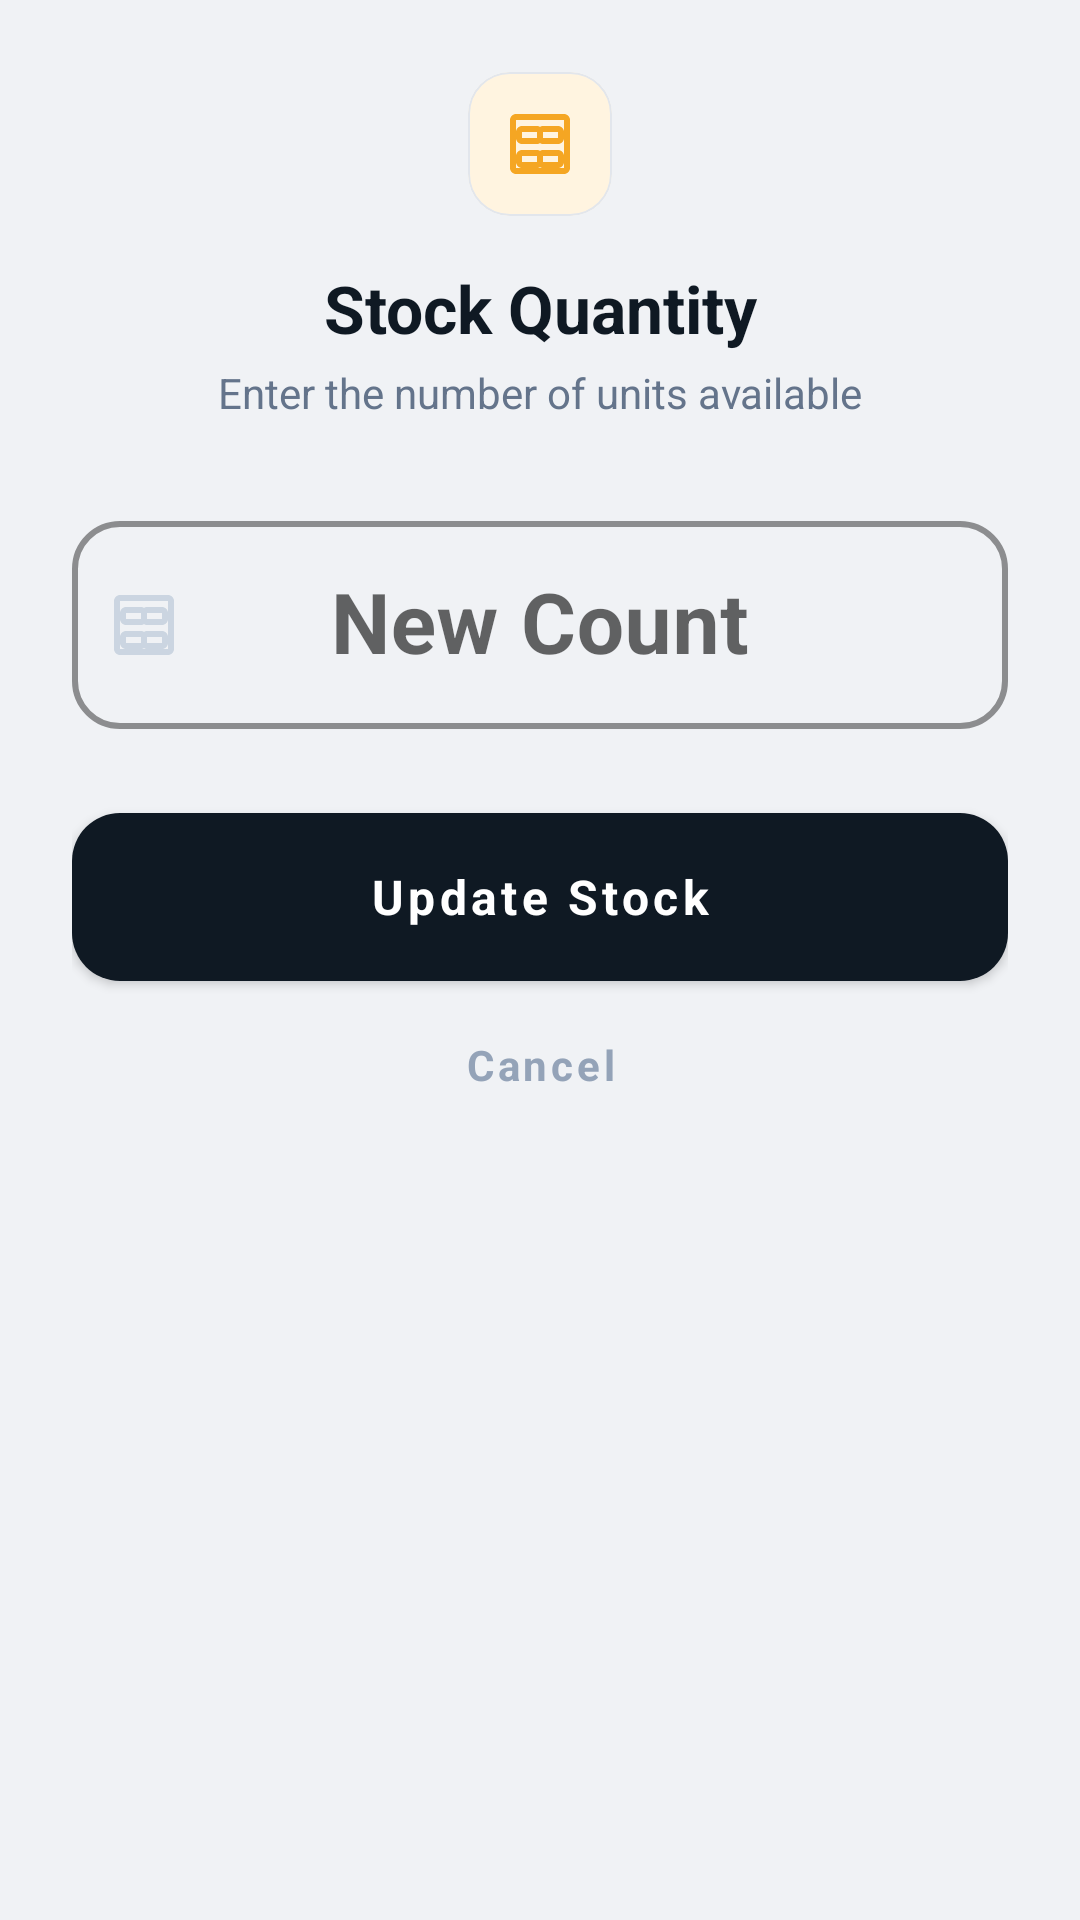

Where to tap for icons on this 1080px x 1920px app screen, as [x,y]:
inventory: [540,144]
